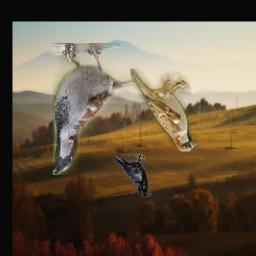Crow: (113, 154, 151, 198)
Sparrow: (53, 44, 139, 176), (130, 69, 198, 152)
